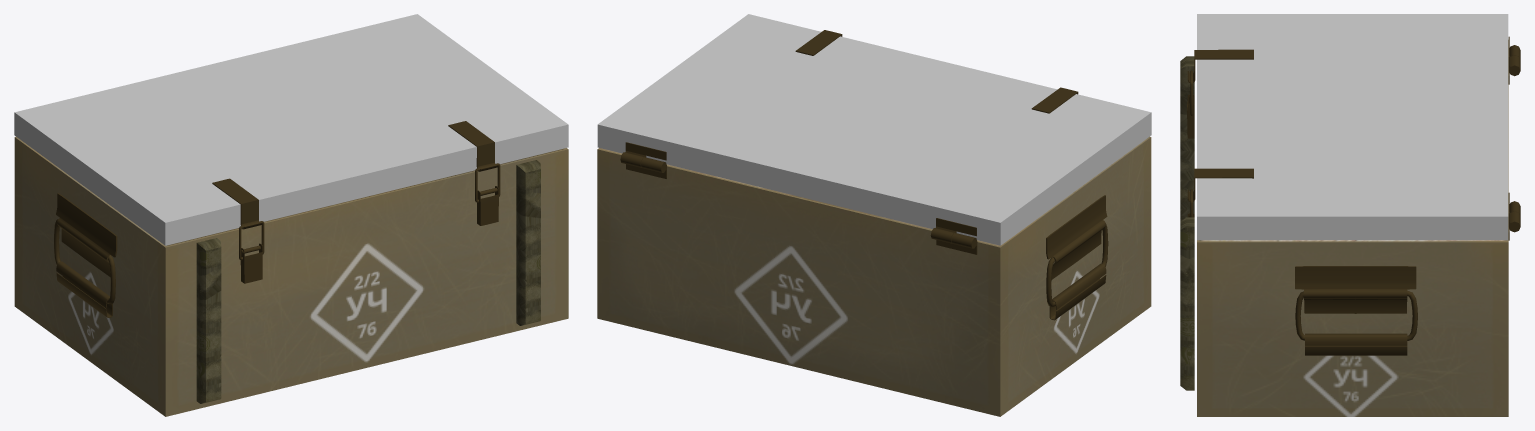
3 views of the same model, side by side, from view 1: azimuth 30°, elevation 25°; view 2: azimuth 150°, elevation 25°; view 3: azimuth 270°, elevation 25° (orthographic). The views are drawn at different scales.
Parts seen in each view (by area): view 1: lowpoly, lowpolyCAP00, Box001, Object001, Line003, Object003, Plane005, Plane006, Object002; view 2: lowpoly, lowpolyCAP00, Object001, Cylinder010, Object003, Line003, Cylinder011, Object002; view 3: lowpolyCAP00, lowpoly, Object001, Box001, Object003, Line003, Object002, Cylinder010.
Part boxes in pixels (x1,y1,x2,y2): lowpoly: (14,136,568,416); lowpolyCAP00: (14,14,568,245); Box001: (196,160,540,403); Object001: (56,193,117,277); Line003: (212,121,498,229); Object003: (56,261,112,317); Plane005: (240,243,262,283); Plane006: (477,186,498,225); Object002: (54,219,115,304); lowpoly: (597,136,1151,416); lowpolyCAP00: (597,14,1151,245); Object001: (1046,195,1107,279); Cylinder010: (620,142,976,243); Object003: (1049,263,1106,320); Line003: (795,30,1078,113); Cylinder011: (626,157,977,254); Object002: (1046,225,1108,306); lowpolyCAP00: (1197,14,1508,240); lowpoly: (1197,40,1508,416); Object001: (1295,266,1416,313); Box001: (1180,56,1194,390); Object003: (1305,333,1407,355); Line003: (1187,49,1253,201); Object002: (1295,290,1417,340); Cylinder010: (1508,36,1520,232).
Bounding box in the file's own units: 827 × 371 × 566.
